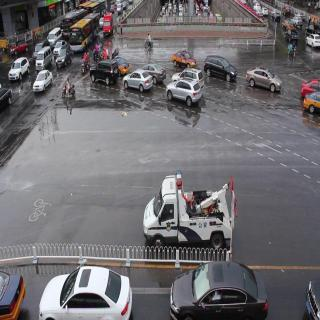BigCar: (63, 18, 98, 51)
Car: (145, 172, 240, 244), (36, 265, 145, 320), (171, 272, 270, 318), (247, 59, 286, 100), (169, 73, 200, 117), (203, 51, 240, 87), (121, 64, 151, 103), (87, 58, 118, 91), (2, 54, 32, 88), (141, 53, 169, 83), (30, 71, 57, 99), (169, 46, 198, 68), (51, 41, 75, 65), (103, 14, 115, 40), (35, 44, 48, 67), (309, 27, 319, 53)
